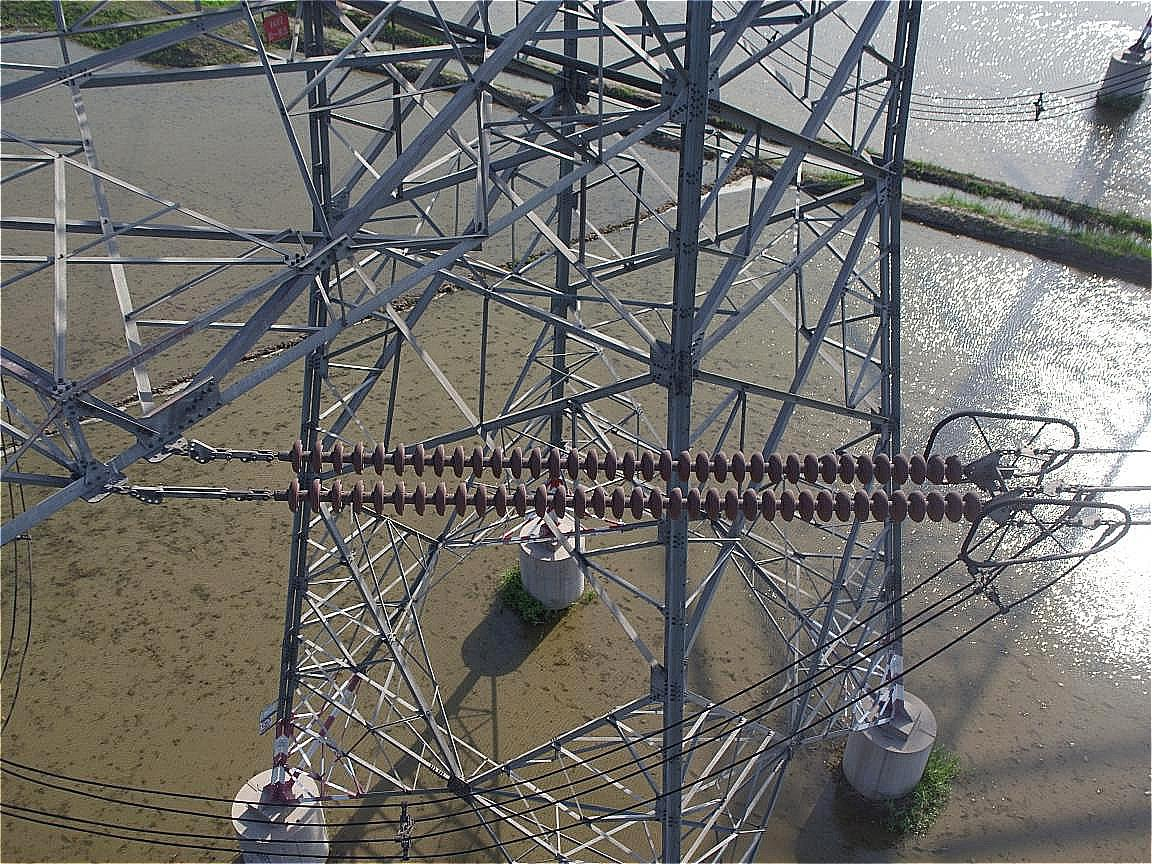insultor1: (290, 437, 983, 523)
